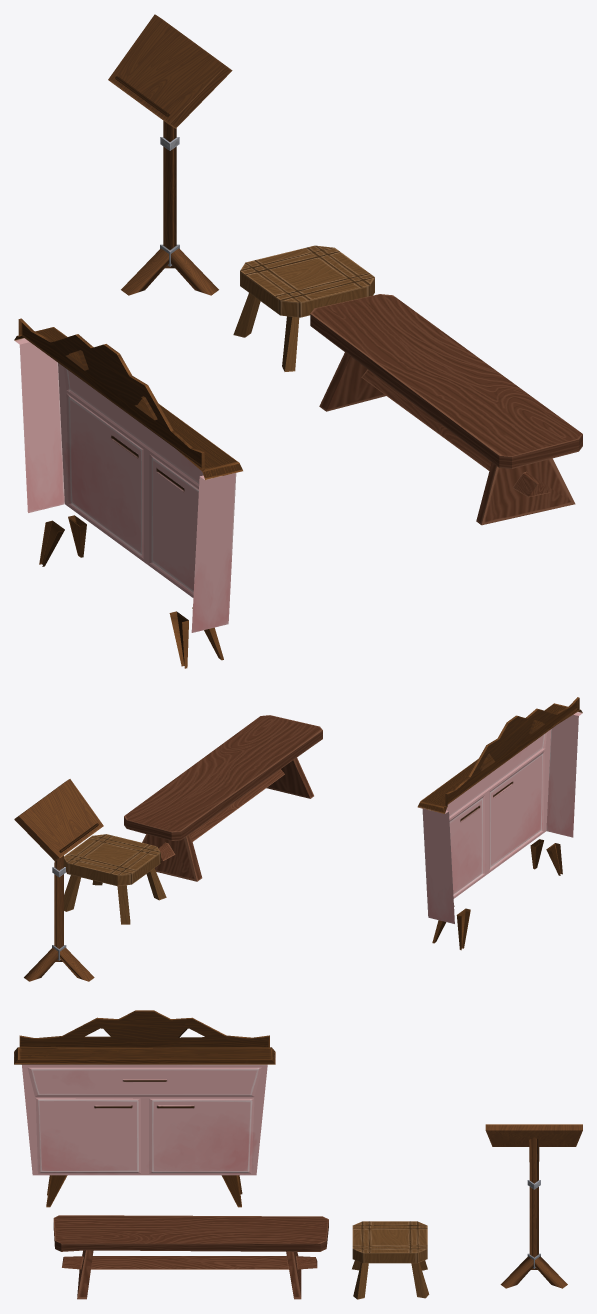
The model's file is PupitreBible.FBX.
3 views of the same model, one above another, from view 1: azimuth 30°, elevation 25°; view 2: azimuth 150°, elevation 25°; view 3: azimuth 270°, elevation 25° (orthographic). The views are drawn at different scales.
Visible parts, largest first — view 1: Object003, Box005, Object001, Object002; view 2: Object003, Box005, Object001, Object002; view 3: Object003, Box005, Object001, Object002.
Boxes of the visible parts, x1,y1,x2,y2 form: Object003: [14, 318, 242, 668]; Box005: [310, 294, 582, 525]; Object001: [108, 14, 232, 295]; Object002: [233, 245, 374, 371]; Object003: [417, 697, 582, 950]; Box005: [124, 715, 322, 881]; Object001: [14, 779, 103, 981]; Object002: [64, 834, 166, 924]; Object003: [14, 1010, 275, 1207]; Box005: [53, 1215, 328, 1299]; Object001: [485, 1124, 582, 1288]; Object002: [352, 1221, 429, 1299].
Bounding box in the file's own units: 178 × 111 × 300.
